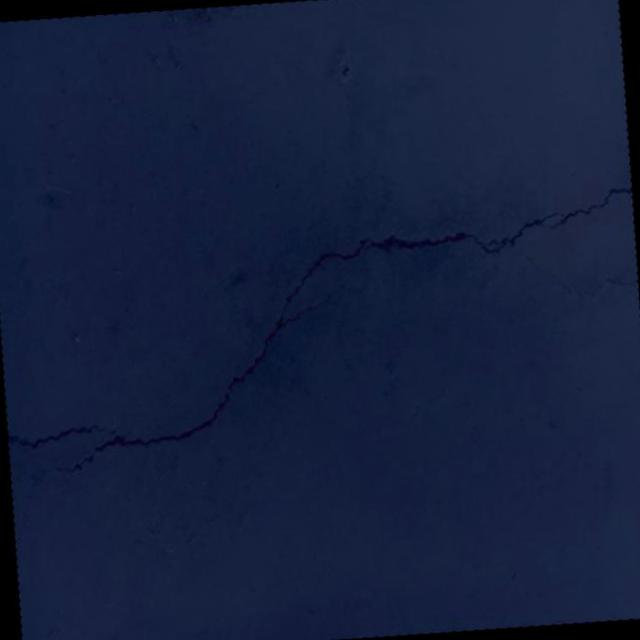crack: (0, 186, 640, 477)
